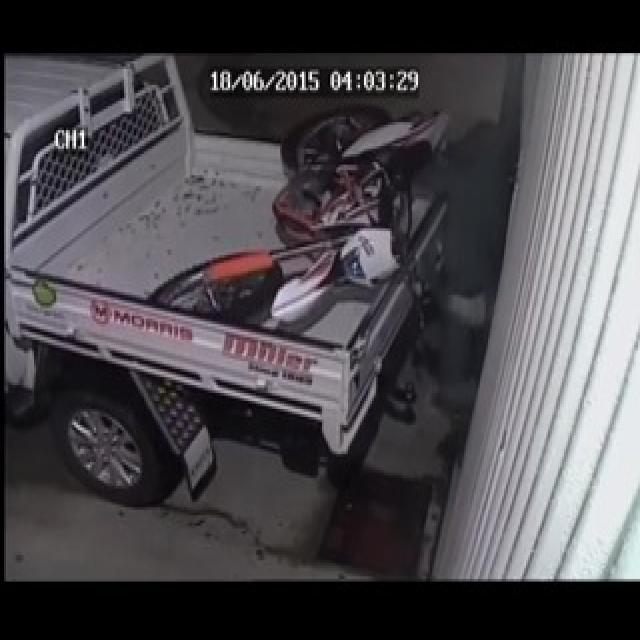thief: (439, 111, 510, 417)
